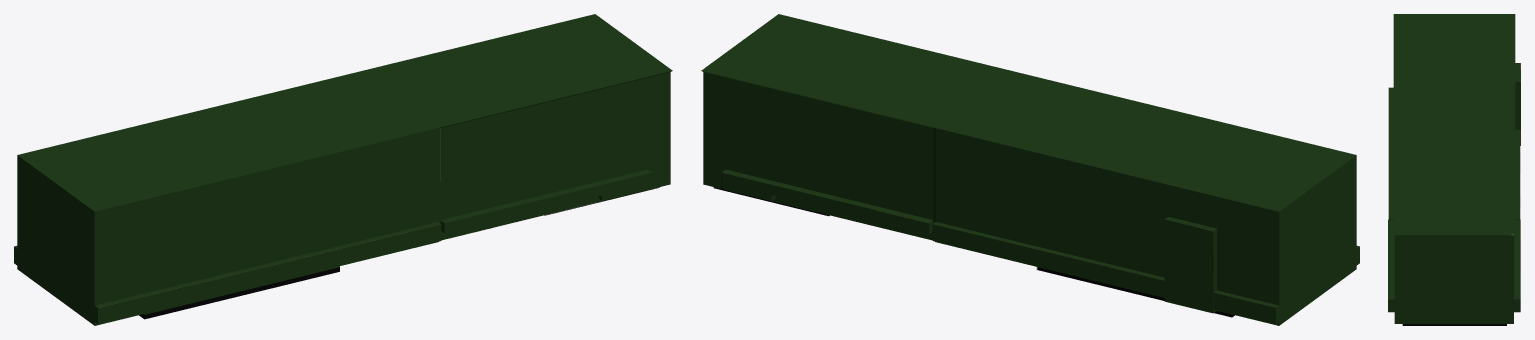
File: ПТ_УстройствоСтыковкиПМсПТ_П.fbx
3 renders of one model, left to right at view 1: azimuth 30°, elevation 25°; view 2: azimuth 150°, elevation 25°; view 3: azimuth 270°, elevation 25°, orthographic. The views are drawn at different scales.
Parts seen in each view (by area): view 1: стыковка.001; view 2: стыковка.001; view 3: стыковка.001.
Part boxes in pixels (bbox=[...]): стыковка.001: bbox=[14, 14, 672, 325]; стыковка.001: bbox=[701, 14, 1359, 325]; стыковка.001: bbox=[1388, 14, 1520, 325].
Bounding box in the file's own units: 142 × 33.61 × 36.2.
1 material, 1 textured.
